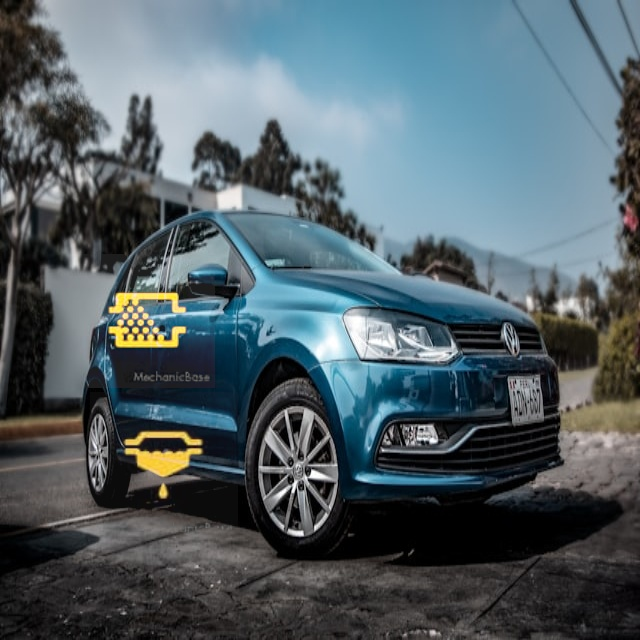symbol: (90, 392, 238, 540), (81, 254, 215, 388)
